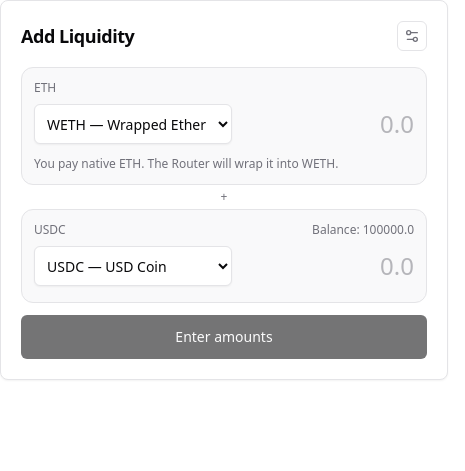
Test: AddLiquidity › shows optimal ratio guidance and pool info when pool exists
Step 1. Type "1" into the 1st field with placeholder "0.0" → (327, 124), box [240,100,414,148]
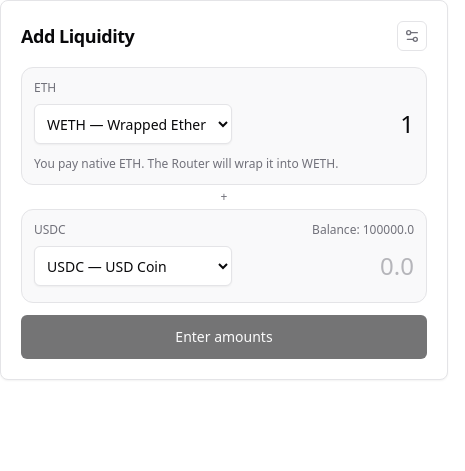
Step 2. Type "100" into the field with placeholder "0.0" → (327, 266), box [240,242,414,290]
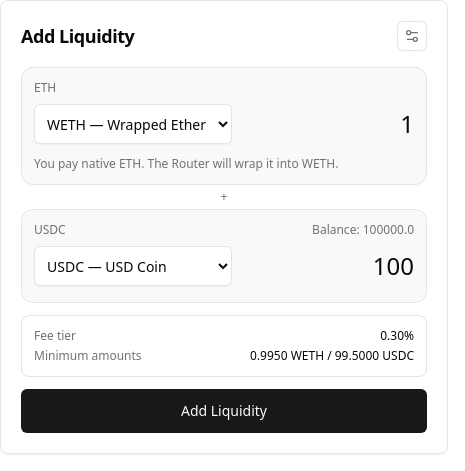
expect the text "0.30%" is shown: met, box [380,328,414,344]
